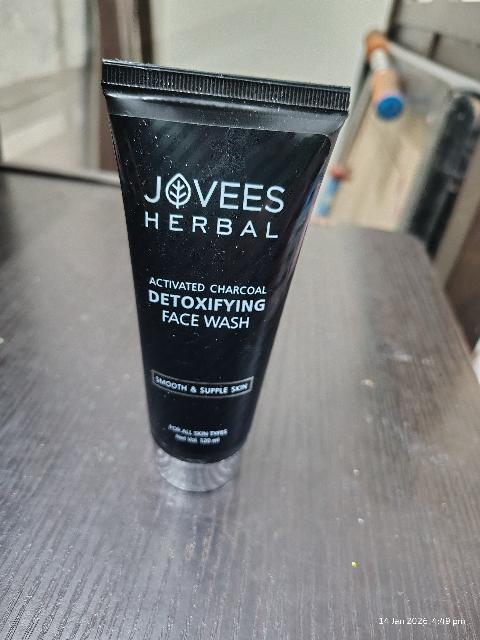jovees herbal: (100, 64, 351, 507)
